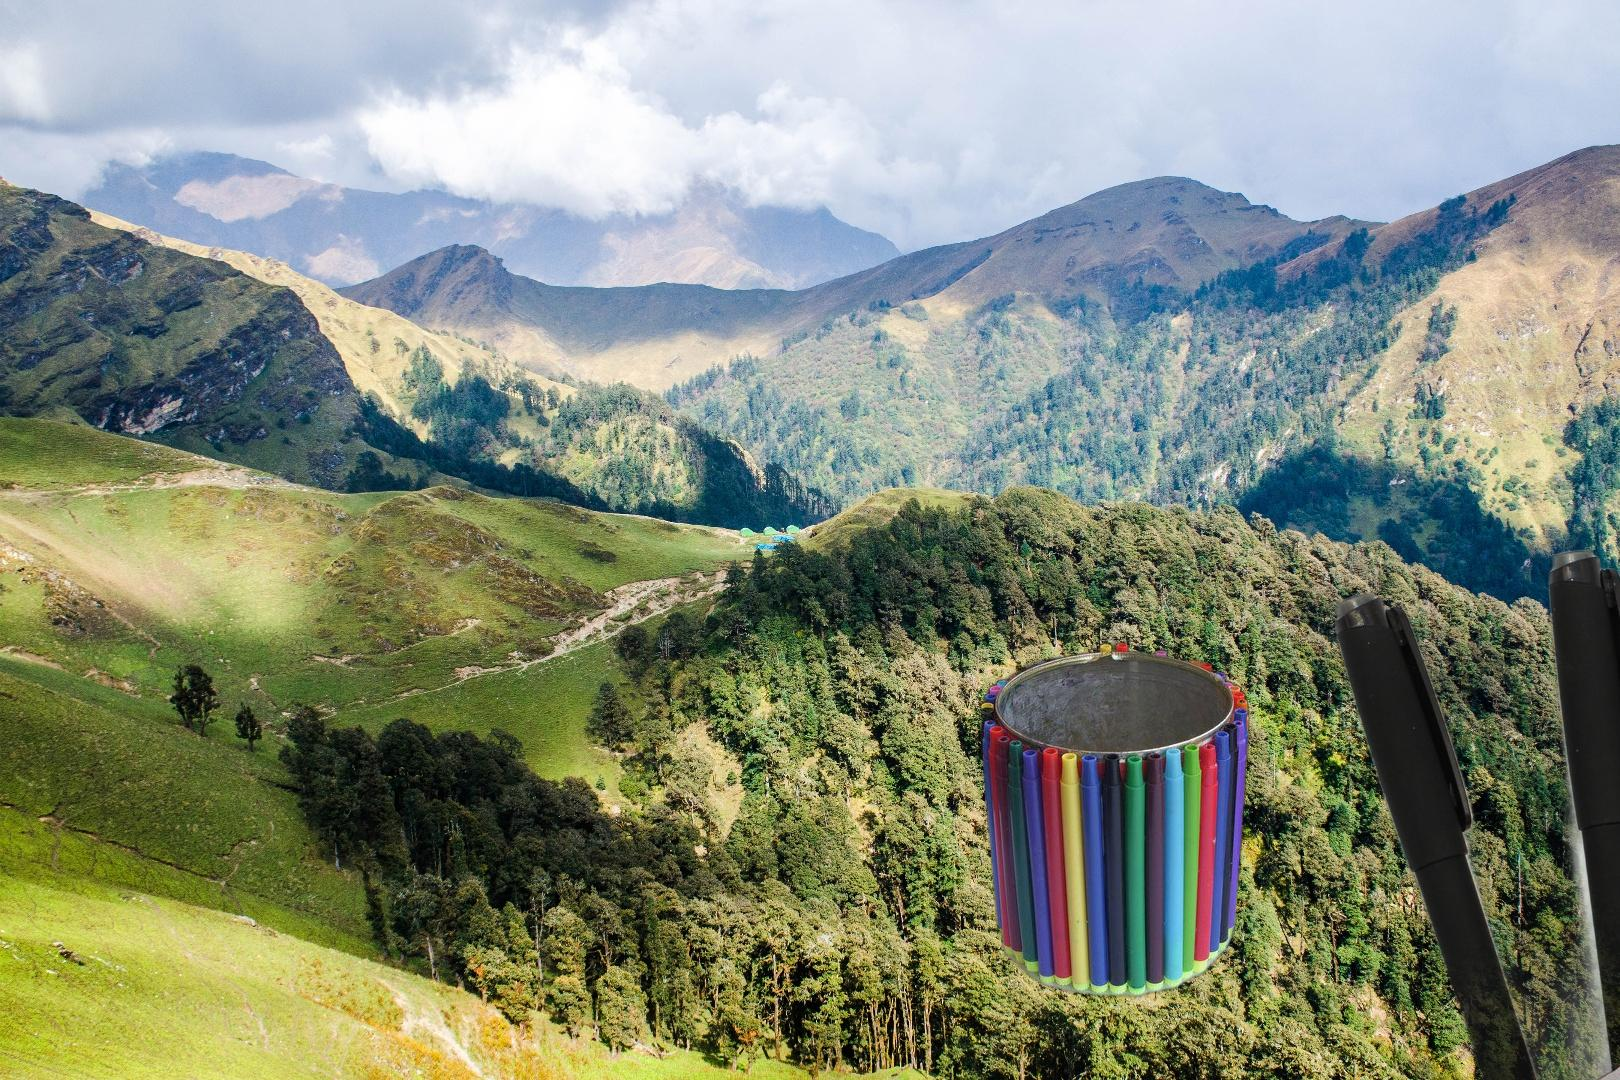clothes: (1571, 1017, 1620, 1080)
penholder: (1327, 542, 1620, 1080), (976, 636, 1254, 1000)
trashbox-cardboard: (574, 974, 1160, 1080)
